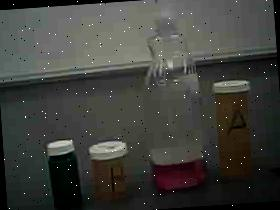Bottle A: (212, 73, 260, 186)
Bottle B: (86, 136, 134, 204)
Bottle C: (37, 130, 90, 210)
hazard: (129, 0, 218, 195)
